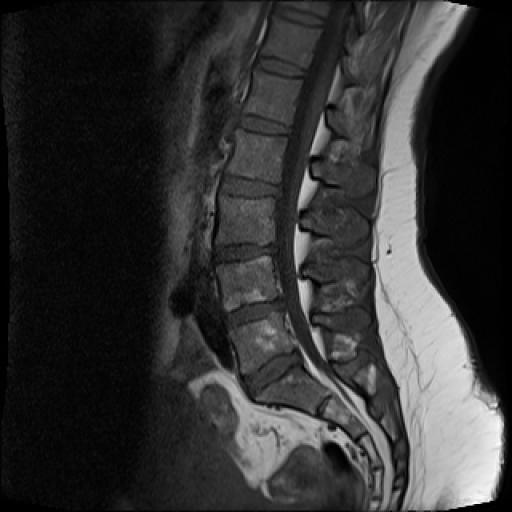L1: (241, 67, 304, 126)
L2: (228, 129, 287, 182)
L3: (216, 196, 275, 246)
L4: (217, 256, 276, 313)
L5: (230, 312, 297, 377)
S1: (254, 366, 334, 415)
